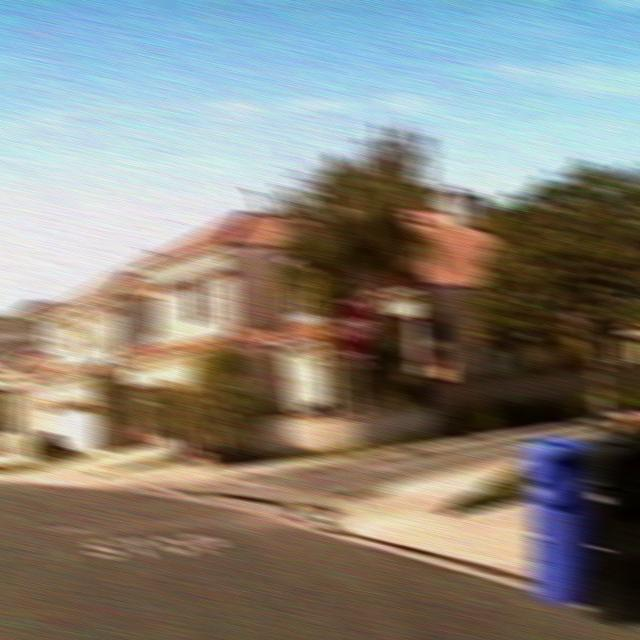stop: (329, 299, 379, 356)
